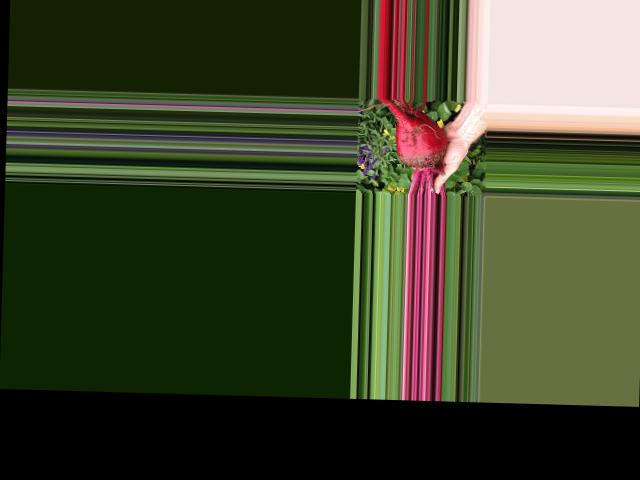beet: (375, 97, 448, 195)
